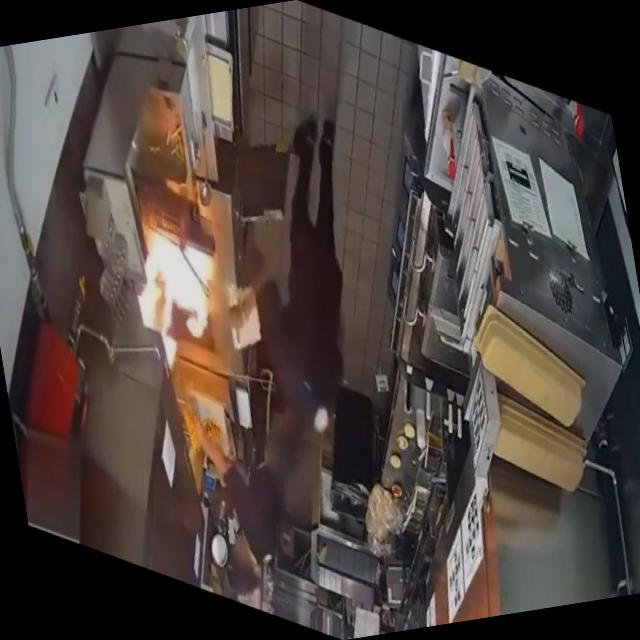fire: (131, 216, 234, 370)
